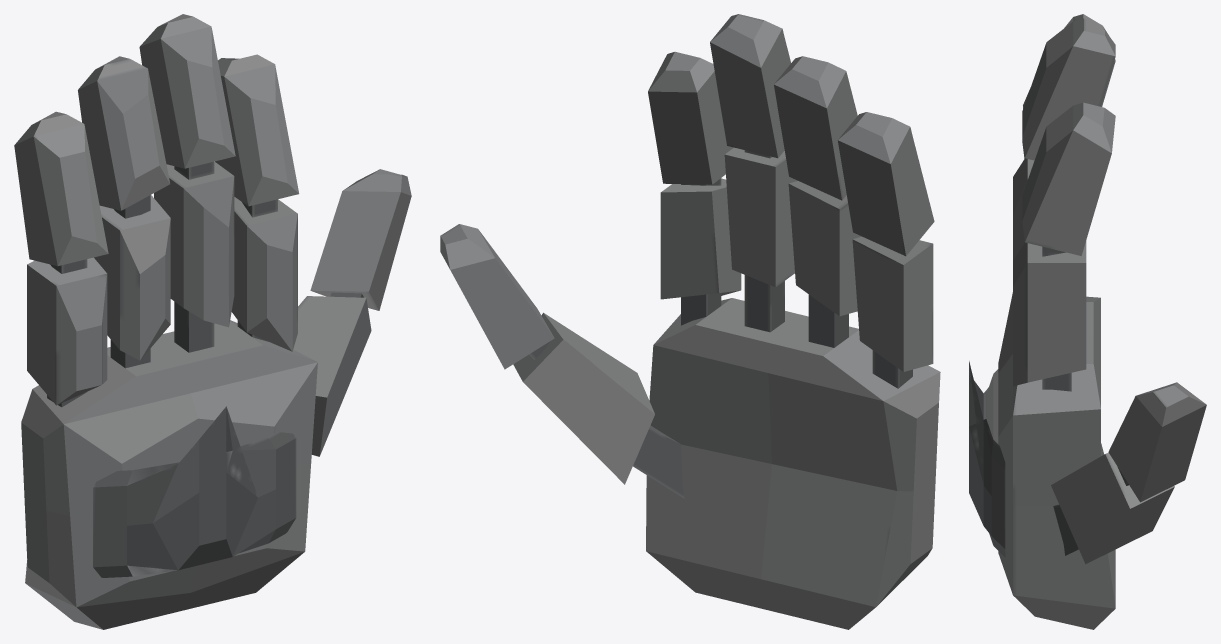
File: hand.obj
3 renders of one model, left to right at view 1: azimuth 30°, elevation 25°; view 2: azimuth 150°, elevation 25°; view 3: azimuth 270°, elevation 25°, orthographic.
Parts seen in each view (by area): view 1: cuboid, tube; view 2: cuboid; view 3: cuboid, tube.
Part boxes in pixels (x1,y1,x2,y2): cuboid: [14, 14, 411, 629]; tube: [93, 406, 296, 577]; cuboid: [440, 14, 940, 629]; cuboid: [998, 14, 1206, 629]; tube: [969, 361, 1005, 557].
Bounding box in the file's own units: 2.12 × 2.73 × 1.01.
Materials: 1 (1 with a texture image).
